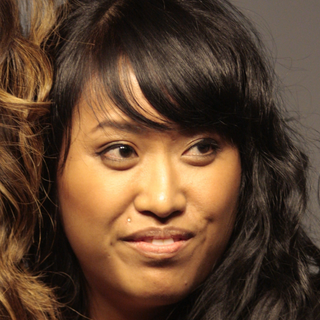eye: (94, 138, 141, 165), (183, 134, 226, 160)
